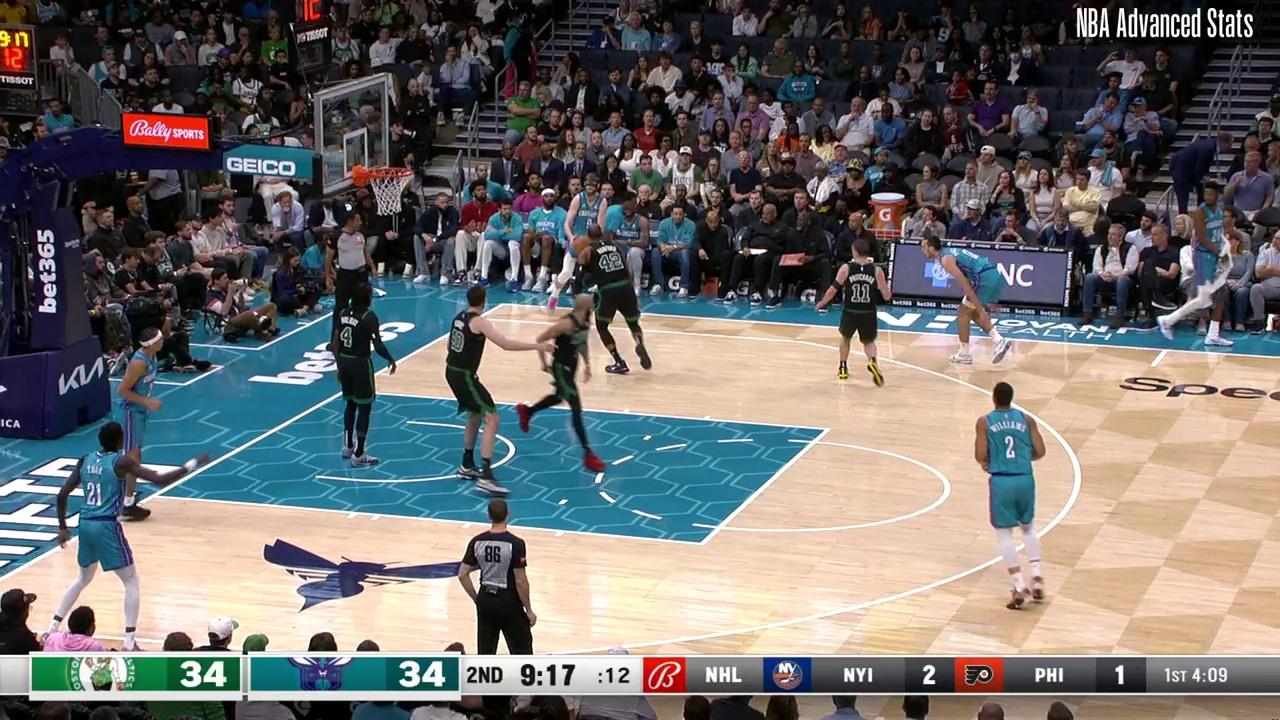b_dx: (492, 297, 510, 312)
free_adx: (821, 423, 836, 436)
free_asx: (696, 536, 711, 551)
free_bsx: (147, 489, 162, 503)
mid_dx: (1148, 360, 1161, 370)
referee: (455, 497, 540, 656), (330, 209, 378, 340)
team: (524, 296, 606, 470), (447, 285, 513, 492), (584, 226, 657, 371), (822, 240, 890, 391), (338, 285, 394, 465)
team1: (54, 422, 188, 652), (971, 381, 1048, 606), (921, 235, 1010, 367), (108, 329, 161, 522), (553, 175, 610, 314)
timer: (519, 657, 577, 695)
